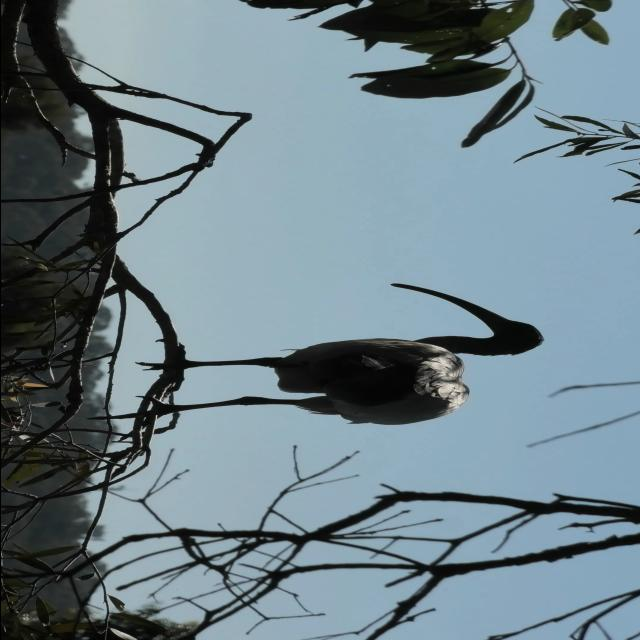Birds-Ibis: (83, 282, 550, 446)
